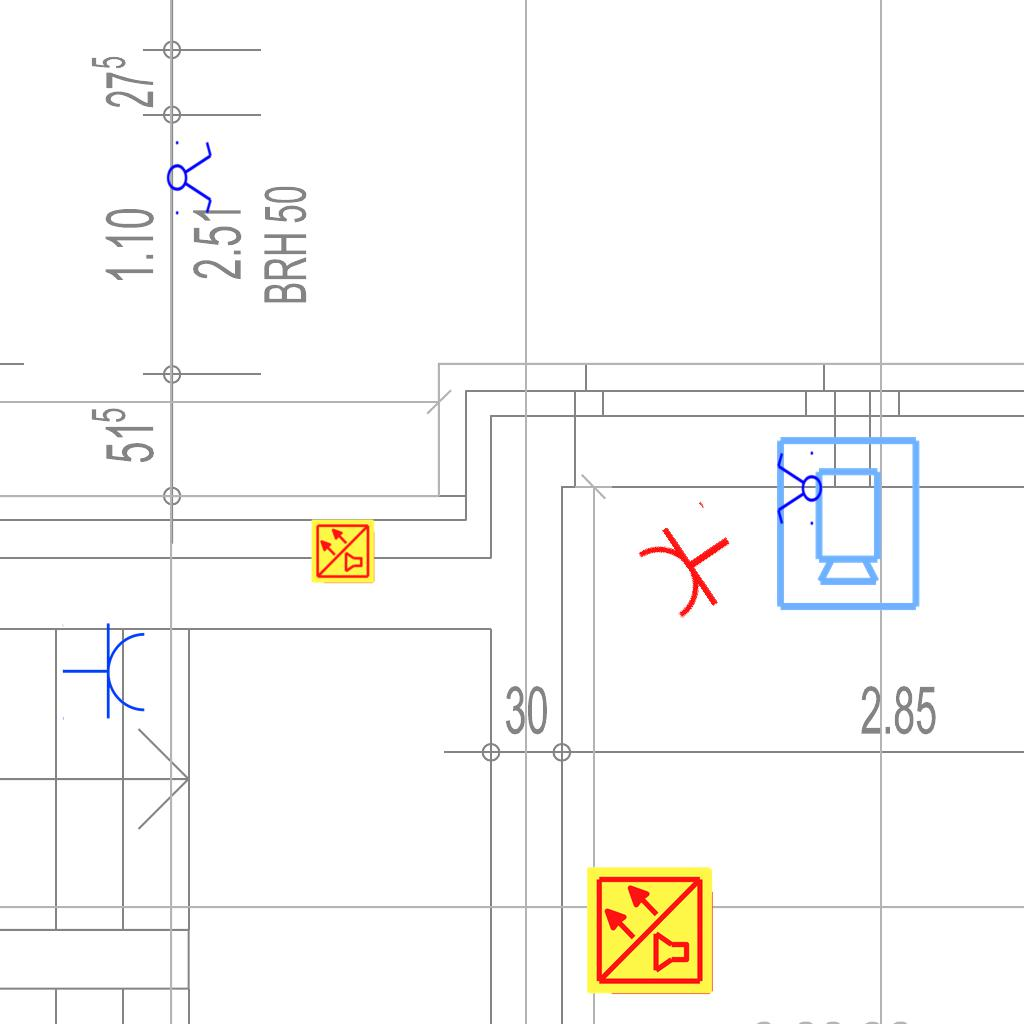KFO_Kamera_mit_Festobjektiv: (770, 432, 924, 614)
OKW_Multisensormelder_(Kombination_optischer_Rauch-Kahlenmonoxid_Waerme-Melder): (584, 864, 716, 996), (310, 518, 376, 584)
Schukosteckdose_einfach: (628, 496, 757, 628), (62, 622, 149, 722)
Serienschalter: (166, 135, 214, 219), (775, 447, 823, 531)
